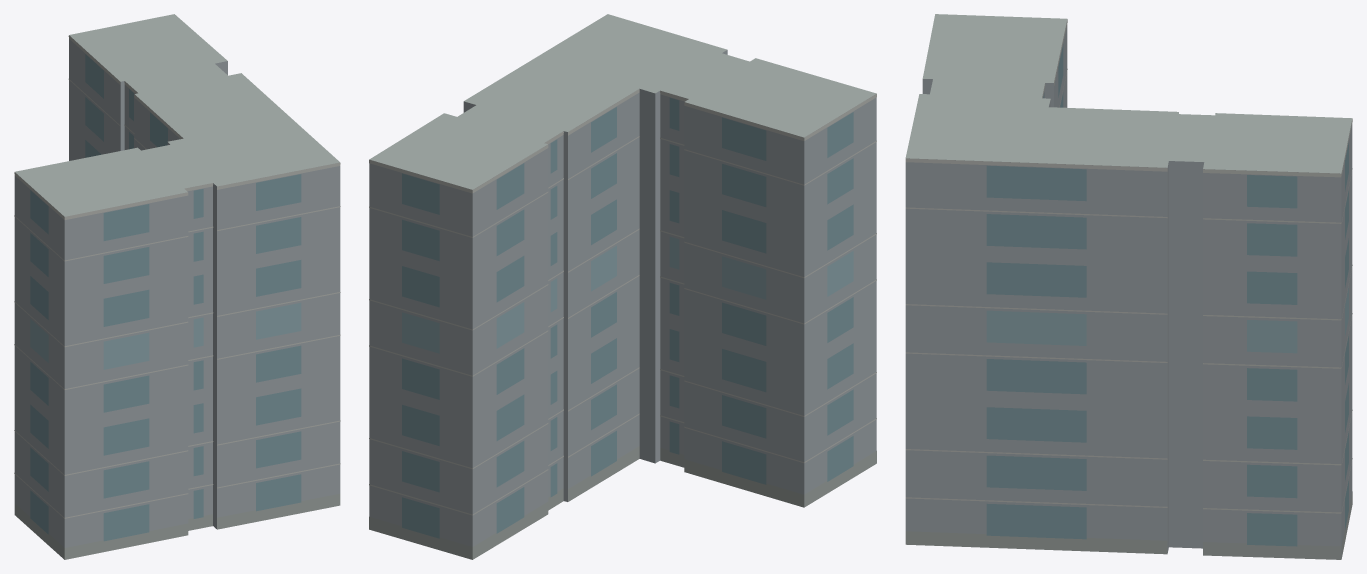
The model's file is survey-upis-33038649.glb.
3 views of the same model, side by side, from view 1: azimuth 30°, elevation 25°; view 2: azimuth 150°, elevation 25°; view 3: azimuth 270°, elevation 25° (orthographic). The views are drawn at different scales.
Visible parts, largest first — view 1: survey-upis-33038649.tmp; view 2: survey-upis-33038649.tmp; view 3: survey-upis-33038649.tmp.
Part boxes in pixels (x1,y1,x2,y2): survey-upis-33038649.tmp: [14, 14, 340, 559]; survey-upis-33038649.tmp: [369, 14, 876, 559]; survey-upis-33038649.tmp: [905, 14, 1352, 559].
Size of the model in its own units: 21.63 by 24.4 by 25.6.
